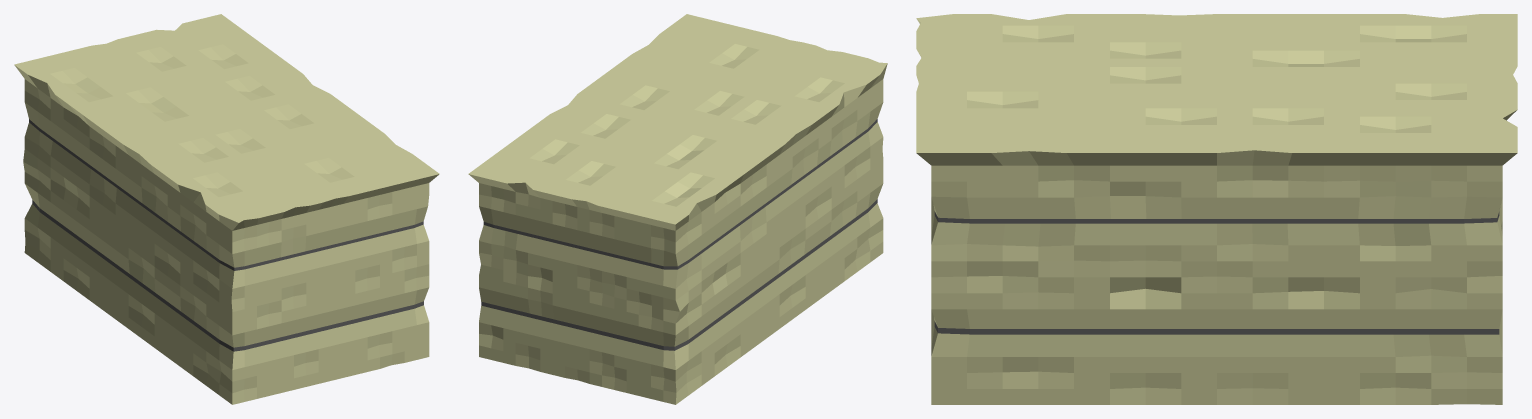
Rendered from Bale.fbx.
The picture shows the model from 3 angles, left to right: view 1: azimuth 30°, elevation 25°; view 2: azimuth 150°, elevation 25°; view 3: azimuth 270°, elevation 25°; orthographic projection. The views are drawn at different scales.
Visible parts, largest first — view 1: Cube; view 2: Cube; view 3: Cube.
Boxes of the visible parts, x1,y1,x2,y2 form: Cube: (14,14,439,404); Cube: (468,14,887,404); Cube: (916,14,1517,404).
Bounding box in the file's own units: 168 × 144 × 307.
